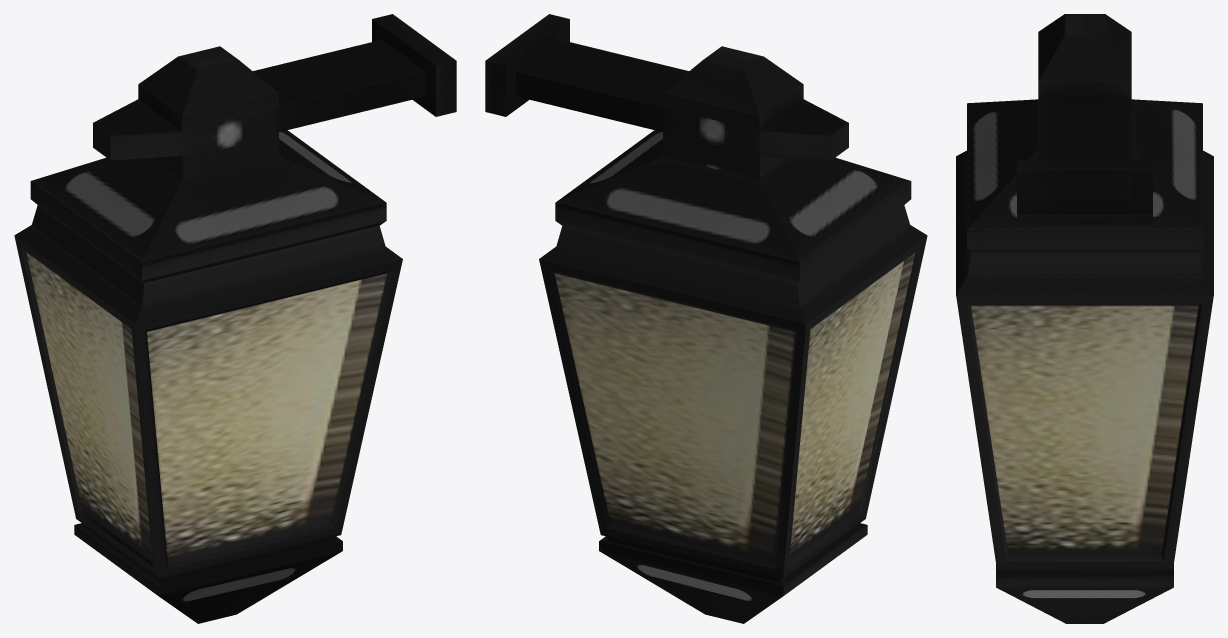
File: Lamps.fbx
The picture shows the model from 3 angles, left to right: view 1: azimuth 30°, elevation 25°; view 2: azimuth 150°, elevation 25°; view 3: azimuth 270°, elevation 25°; orthographic projection. The views are drawn at different scales.
Parts seen in each view (by area): view 1: Lamps_Indoor.001; view 2: Lamps_Indoor.001; view 3: Lamps_Indoor.001.
Boxes of the visible parts, left/top/right/bottom form: Lamps_Indoor.001: left=14, top=14, right=456, bottom=623; Lamps_Indoor.001: left=485, top=14, right=927, bottom=623; Lamps_Indoor.001: left=956, top=14, right=1213, bottom=623.
Bounding box in the file's own units: 10.6 × 16.07 × 6.38.
Materials: 1 (1 with a texture image).
